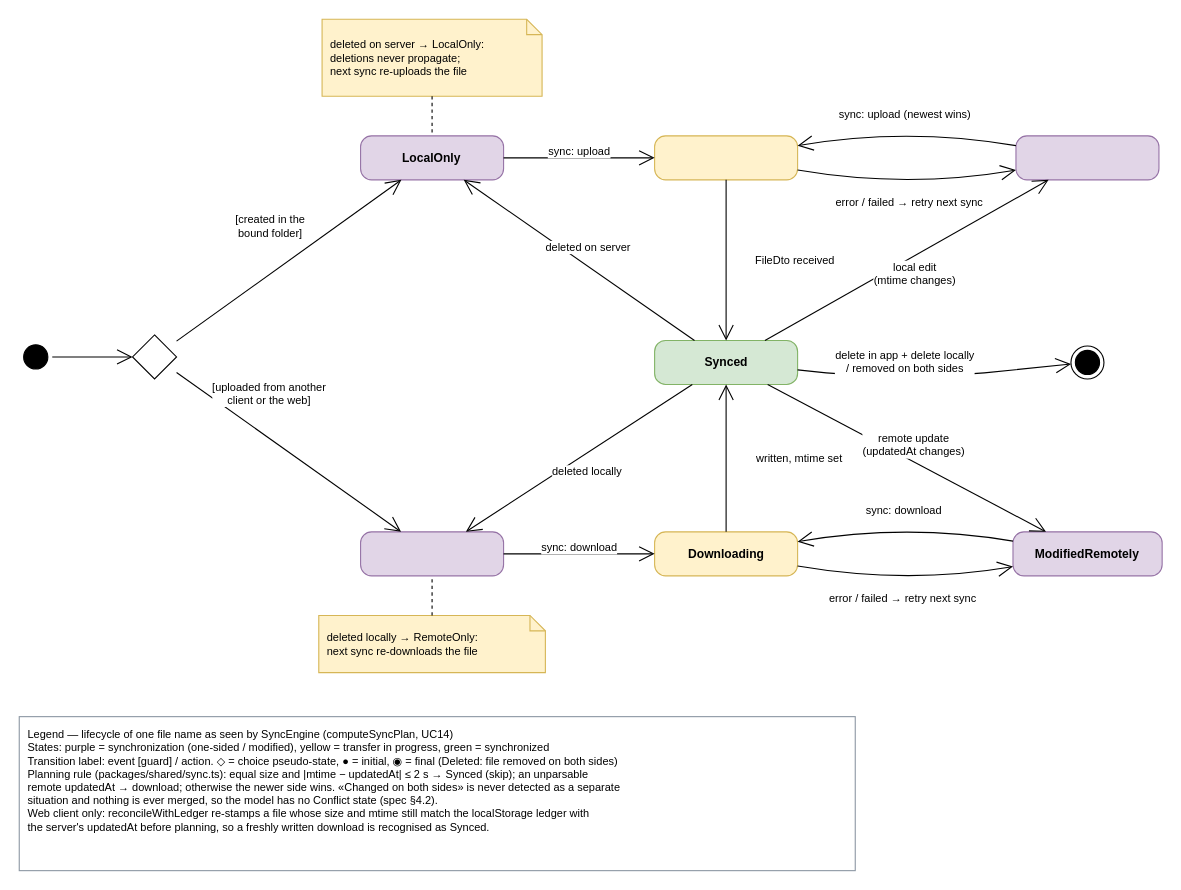
Image size: 1181x890. Some labels were removed from this diagram. Here are the shapes that lost their labels. From the top down, the centre of each, then its label:
point 726,157: Uploading
point 1087,157: ModifiedLocally
point 431,553: RemoteOnly
